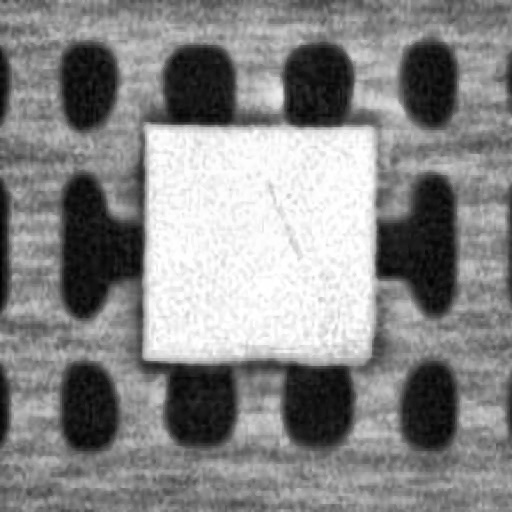DIE_CRACK: (268, 175, 304, 263)
